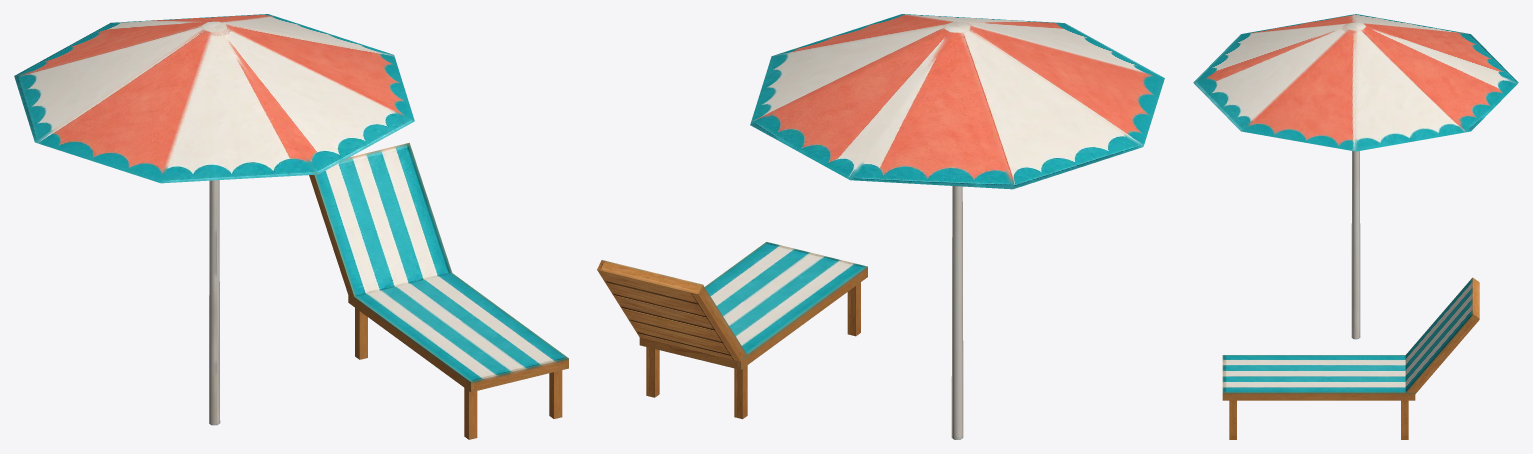
File: parasol.glb
The picture shows the model from 3 angles, left to right: view 1: azimuth 30°, elevation 25°; view 2: azimuth 150°, elevation 25°; view 3: azimuth 270°, elevation 25°; orthographic projection. The views are drawn at different scales.
Parts seen in each view (by area): view 1: GEO-parasol; view 2: GEO-parasol; view 3: GEO-parasol.
Part boxes in pixels (x1,y1,x2,y2): GEO-parasol: (14,14,568,439); GEO-parasol: (597,14,1164,439); GEO-parasol: (1193,14,1518,439).
Size of the model in its own units: 2.75 by 2.32 by 2.2.
1 material, 1 textured.
